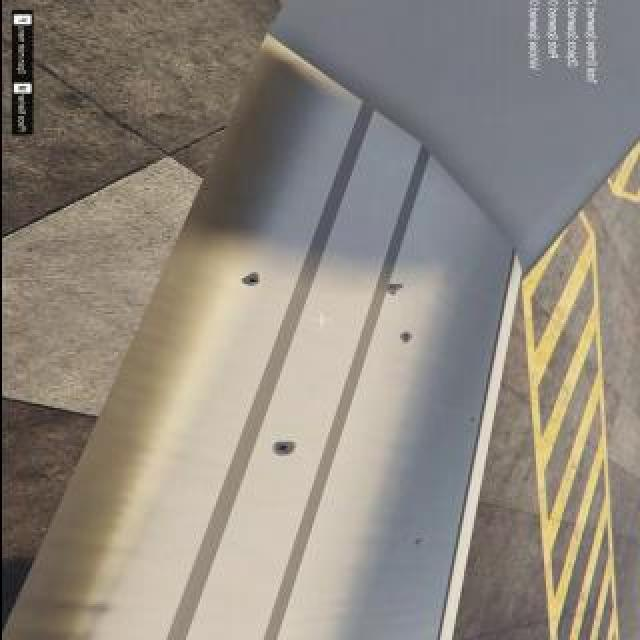crack: (269, 441, 293, 457), (240, 273, 258, 287), (399, 332, 415, 344), (408, 537, 426, 547), (385, 286, 401, 294), (463, 416, 479, 424)
